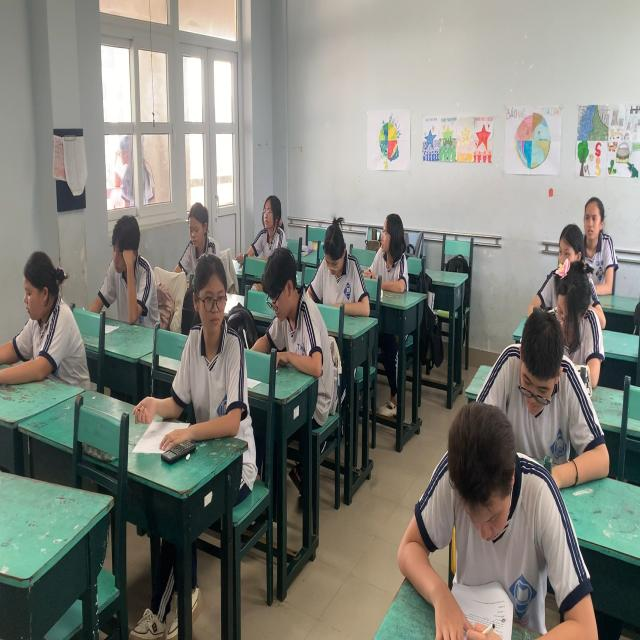cheating: (370, 215, 414, 302)
not_cheating: (412, 406, 546, 606), (183, 243, 251, 440), (498, 305, 574, 468), (18, 250, 78, 381), (261, 247, 317, 371), (308, 212, 366, 320), (98, 205, 148, 319), (549, 247, 586, 388), (574, 189, 619, 295), (176, 182, 216, 268), (250, 188, 286, 256)
